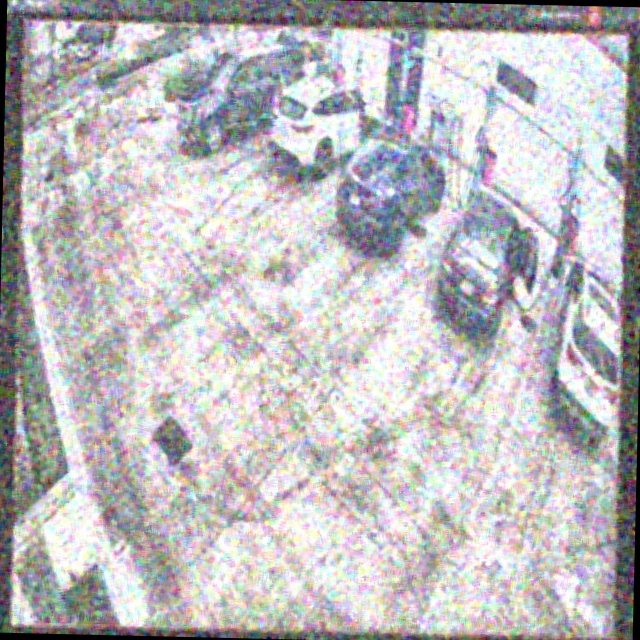Car: (336, 122, 448, 252), (439, 188, 538, 333), (272, 74, 383, 175)
